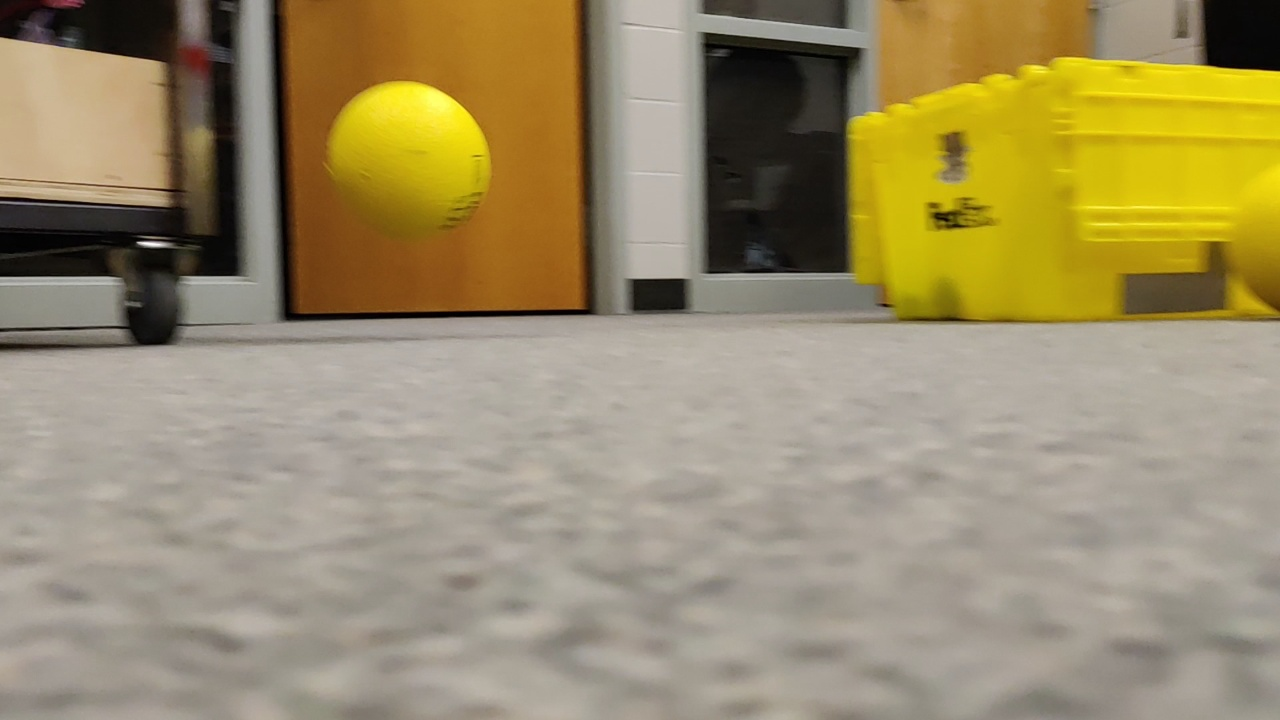Ball: (311, 73, 519, 245)
